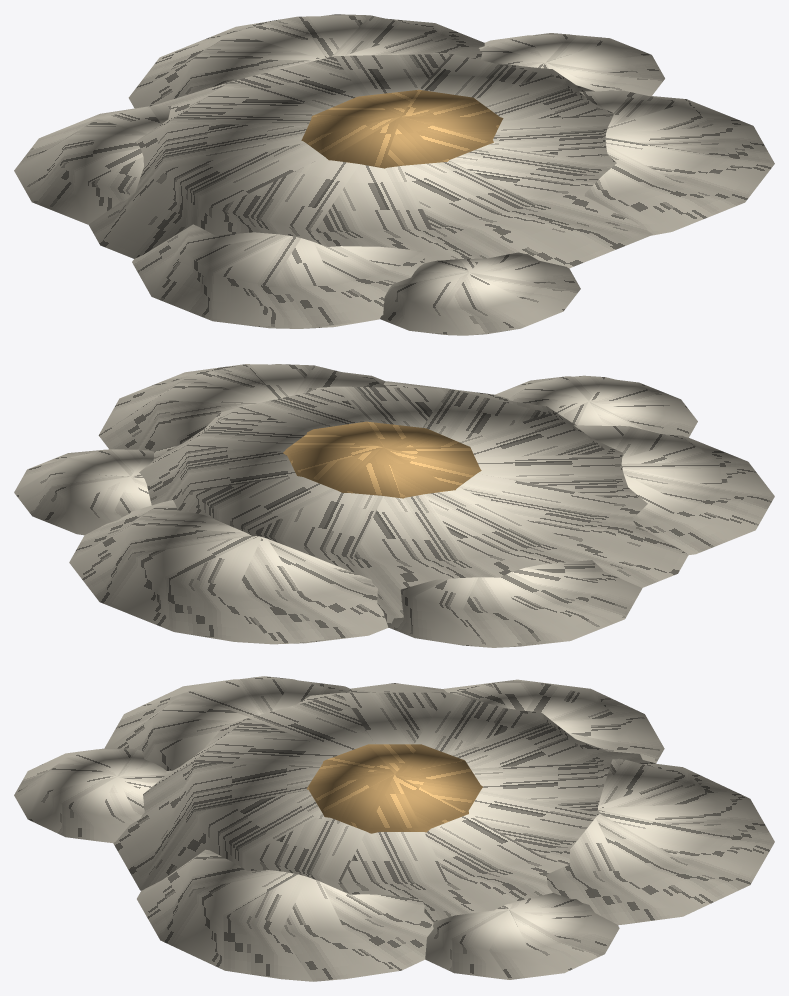
Rendered from fx_wax_puddle.gltf.
3 views of the same model, one above another, from view 1: azimuth 30°, elevation 25°; view 2: azimuth 150°, elevation 25°; view 3: azimuth 270°, elevation 25° (orthographic). The views are drawn at different scales.
Parts seen in each view (by area): view 1: pool, heart; view 2: pool, heart; view 3: pool, heart.
Boxes of the visible parts, bbox=[...] form: pool: bbox=[14, 14, 774, 335]; heart: bbox=[301, 89, 503, 168]; pool: bbox=[14, 364, 774, 647]; heart: bbox=[283, 421, 481, 498]; pool: bbox=[14, 676, 774, 981]; heart: bbox=[306, 744, 482, 833].
Bounding box in the file's own units: 1.77 × 0.28 × 1.86.
2 materials, 2 textured.
